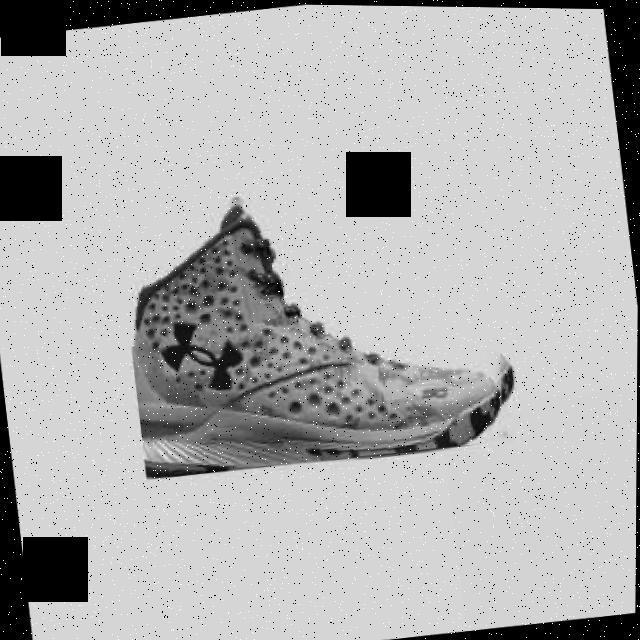shoe: (113, 158, 524, 483)
